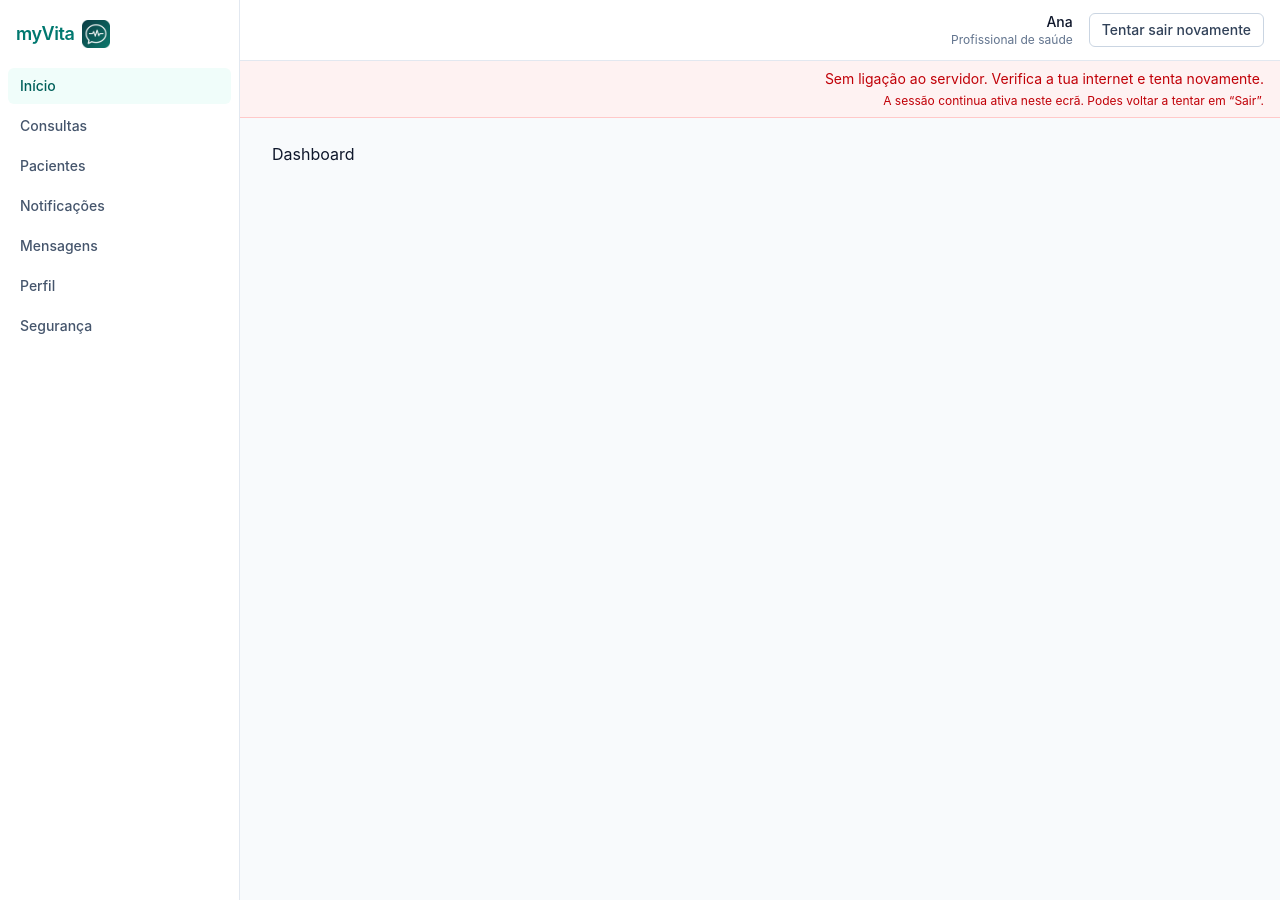
Test case: AppLayout navigation › moves focus to the main content and retitles the page after an in-app navigation, but not on first load
Expected: the text "Ana" is shown, x1=1046 y1=13 x2=1073 y2=30
Click the link "Consultas" at (54, 126), box x1=20 y1=117 x2=87 y2=134
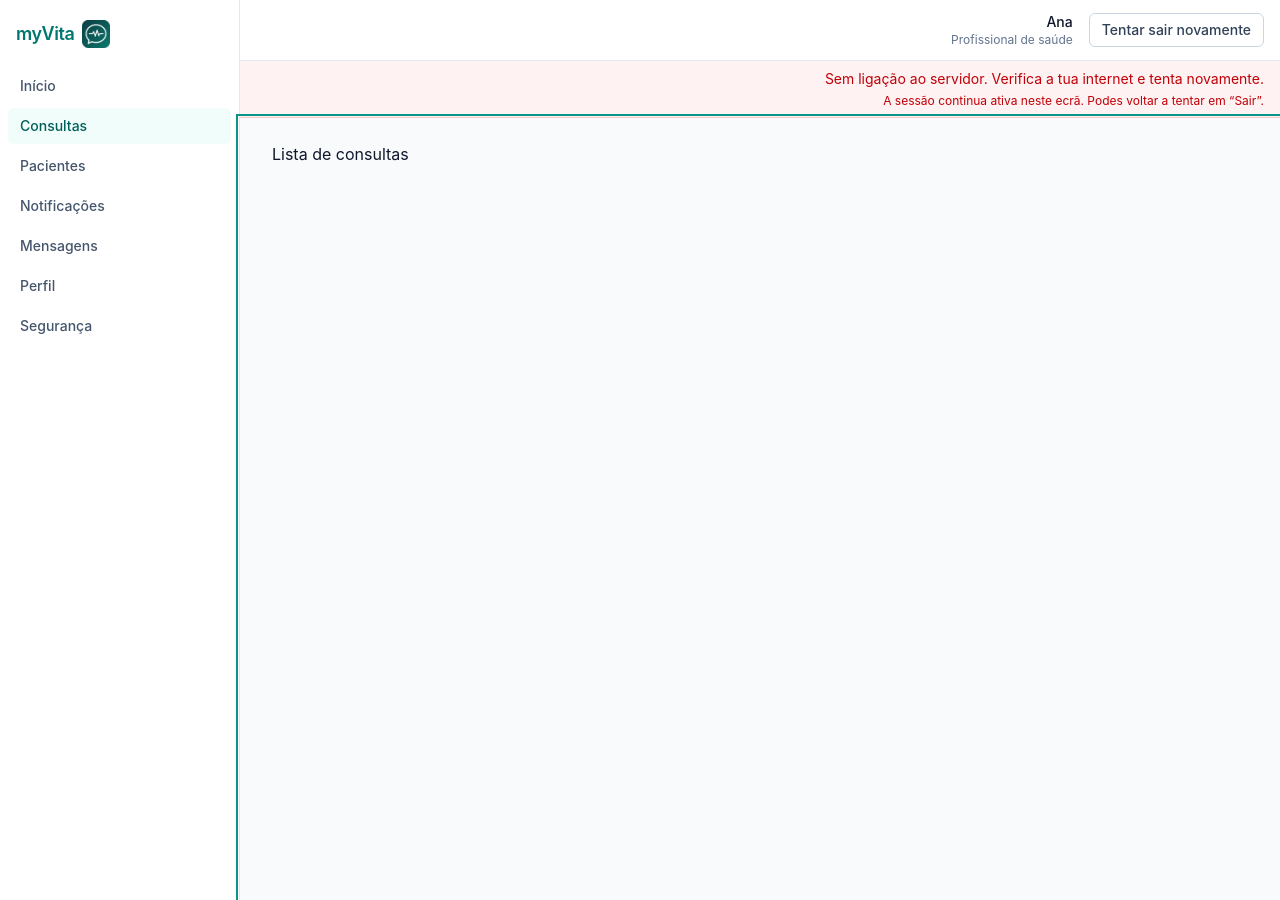
Expected: the text "Lista de consultas" is shown, x1=272 y1=144 x2=409 y2=164
